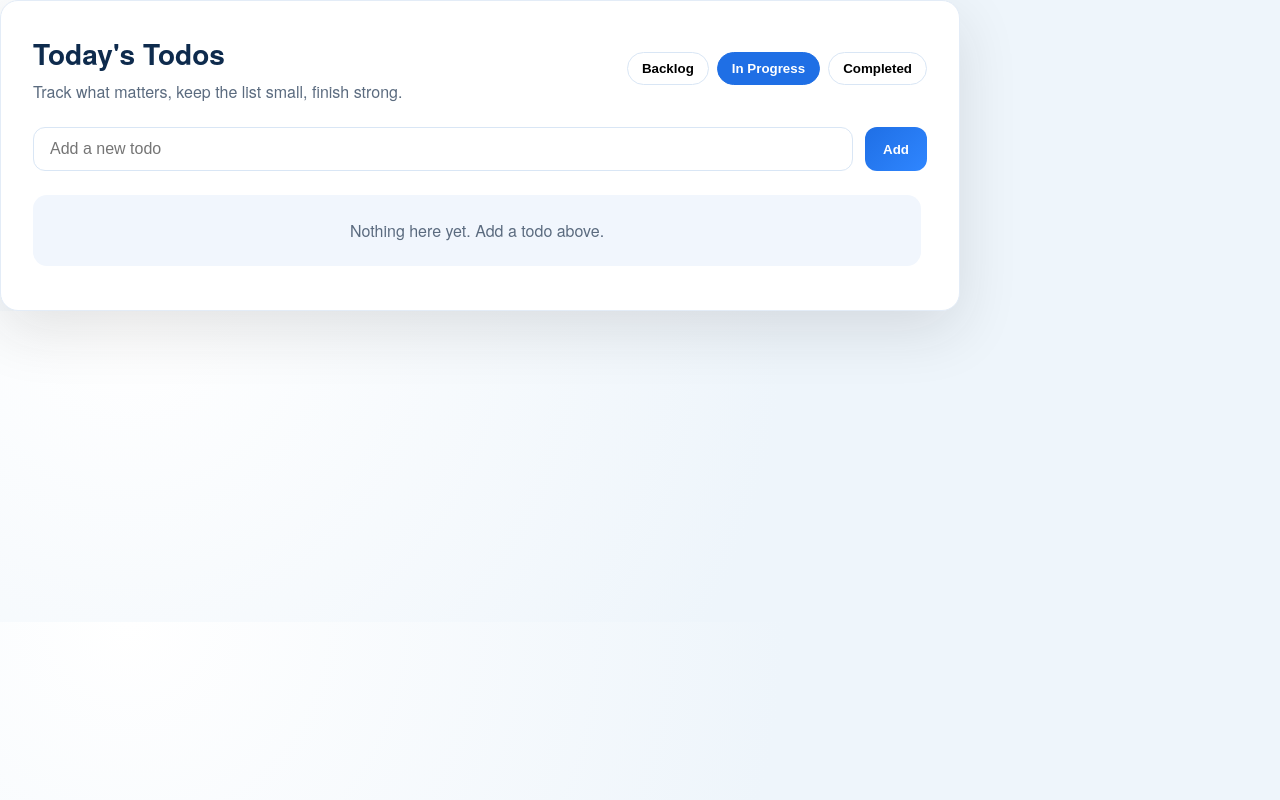
Test: TodosPage › renders empty state and adds a todo
Check: the text "Nothing here yet. Add a todo above." is shown, box top-left (33, 195), bottom-right (921, 266)
Type "Learn React Query" into the field with placeholder "Add a new todo" at (443, 149), box top-left (33, 127), bottom-right (853, 171)
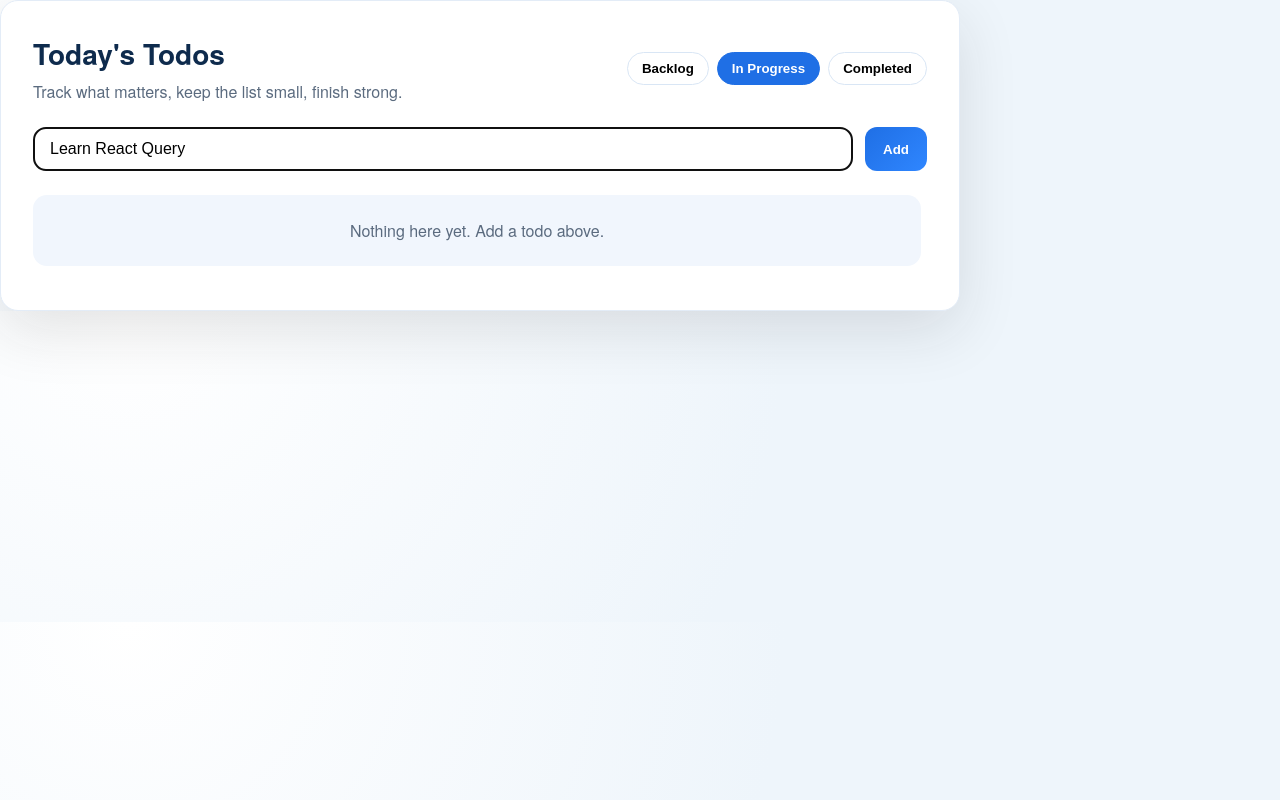
Click the button "Add" at (896, 149), box top-left (865, 127), bottom-right (927, 171)
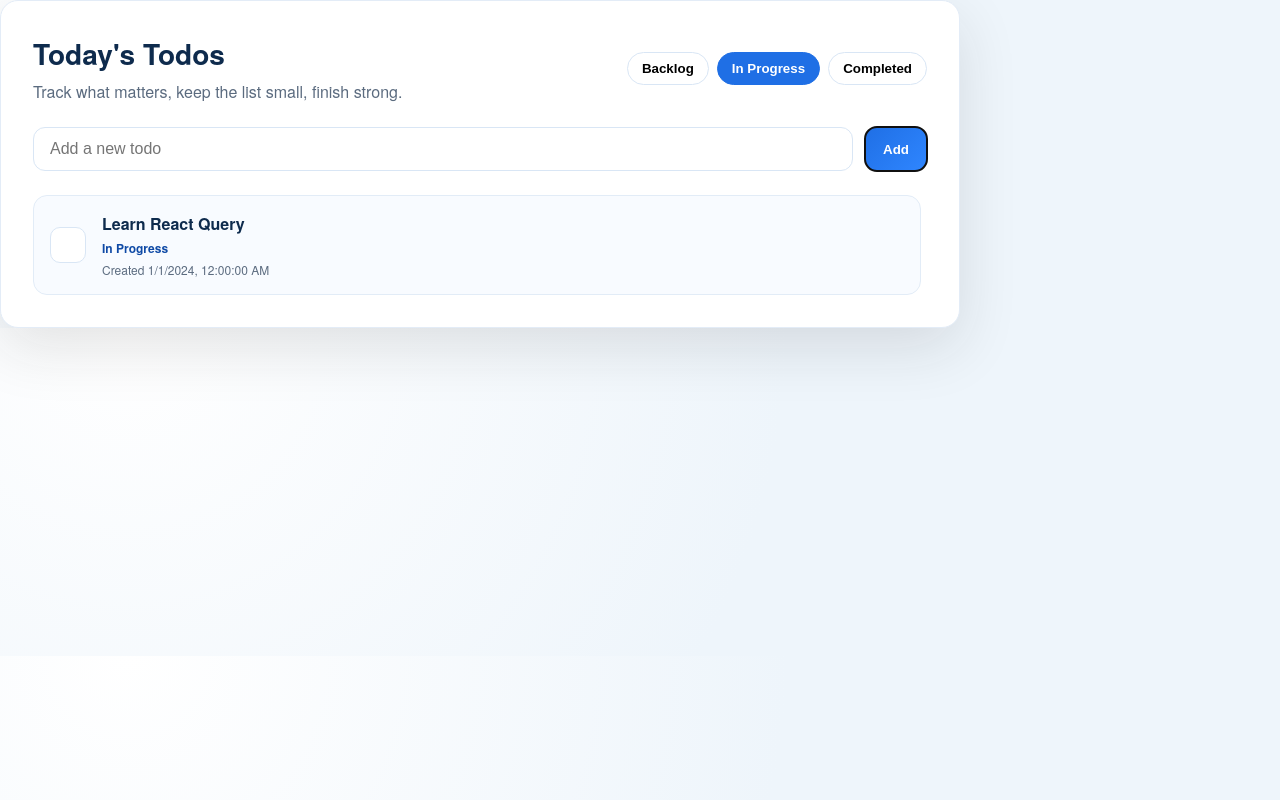
Check: the text "Learn React Query" is shown, box top-left (102, 212), bottom-right (245, 235)
